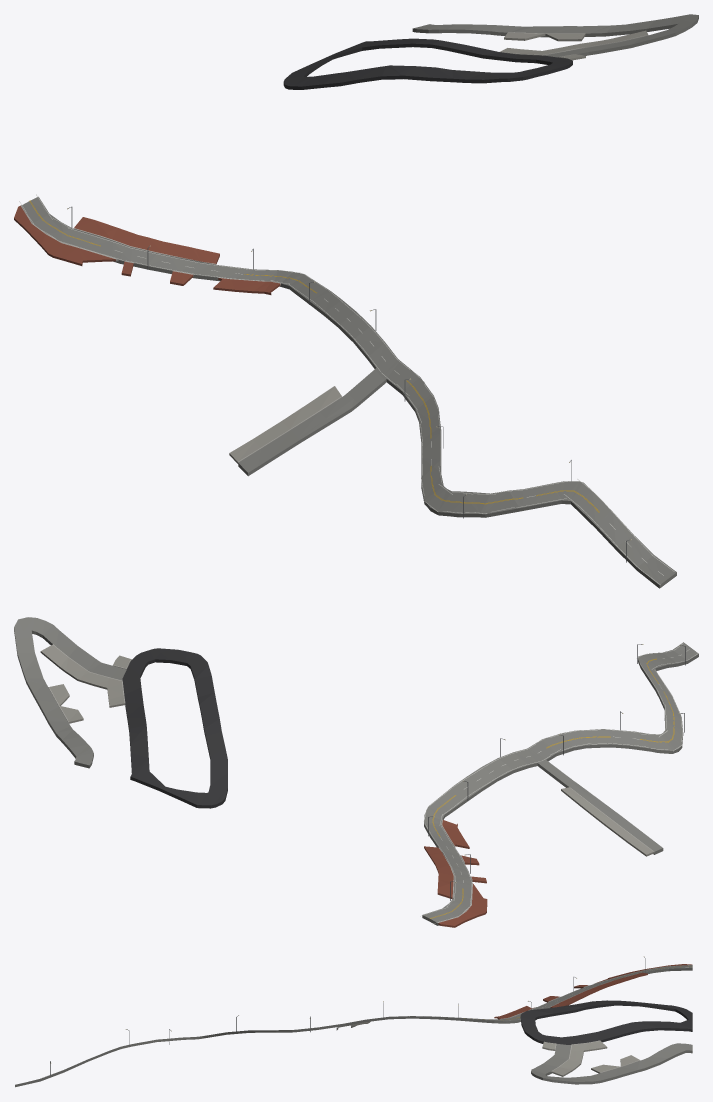
3 views of the same model, one above another, from view 1: azimuth 30°, elevation 25°; view 2: azimuth 150°, elevation 25°; view 3: azimuth 270°, elevation 25° (orthographic). The views are drawn at different scales.
Size of the model in its own units: 212 by 75.23 by 295.
